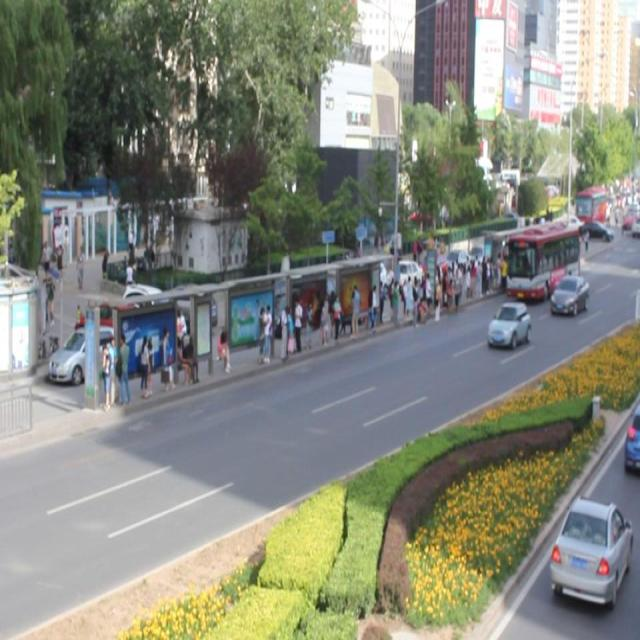car: (486, 301, 530, 347), (549, 274, 586, 316)
van: (507, 220, 578, 300)
